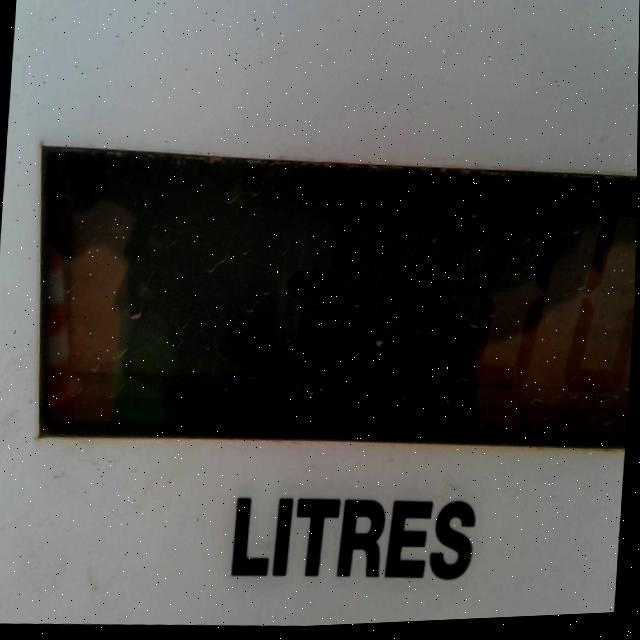.: (433, 333, 471, 423)
0: (467, 181, 571, 413), (564, 181, 638, 417)
3: (271, 168, 361, 411)
9: (365, 172, 471, 410)
